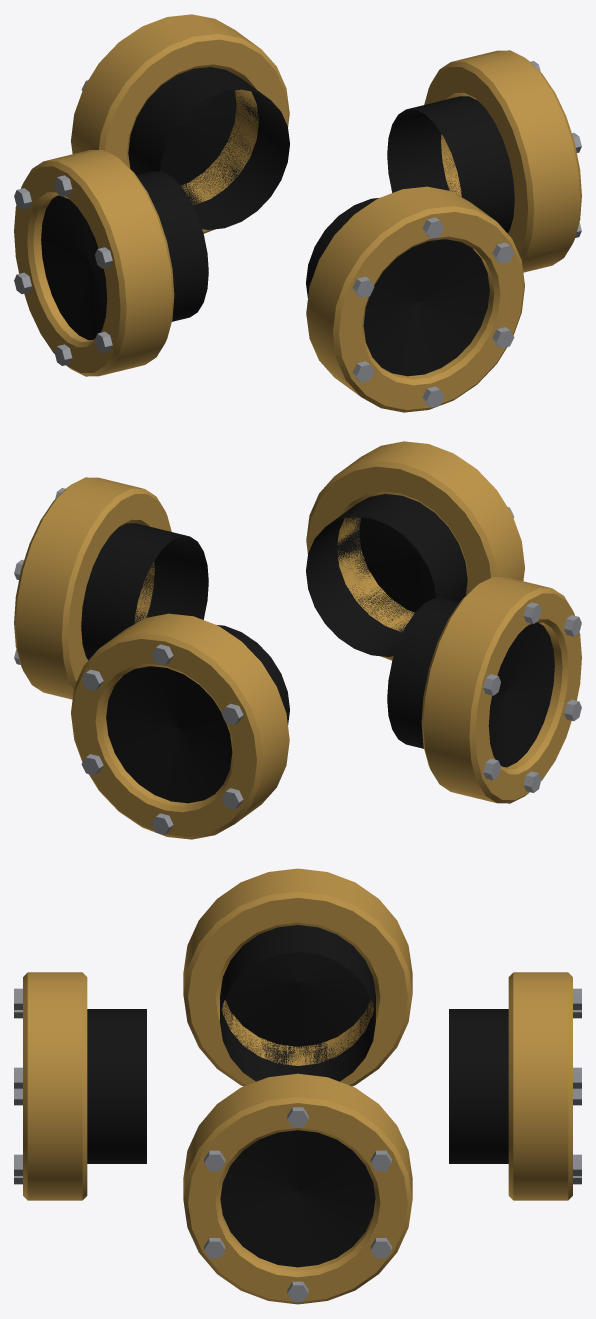
Rendered from rcs4_emitter.obj.
3 views of the same model, one above another, from view 1: azimuth 30°, elevation 25°; view 2: azimuth 150°, elevation 25°; view 3: azimuth 270°, elevation 25° (orthographic). The views are drawn at different scales.
Visible parts, largest first — view 1: rcs4_emitter; view 2: rcs4_emitter; view 3: rcs4_emitter.
Part boxes in pixels (bbox=[...]): rcs4_emitter: bbox=[14, 14, 581, 412]; rcs4_emitter: bbox=[14, 441, 581, 839]; rcs4_emitter: bbox=[14, 868, 581, 1304].
Bounding box in the file's own units: 1.24 × 0.5 × 1.24.
